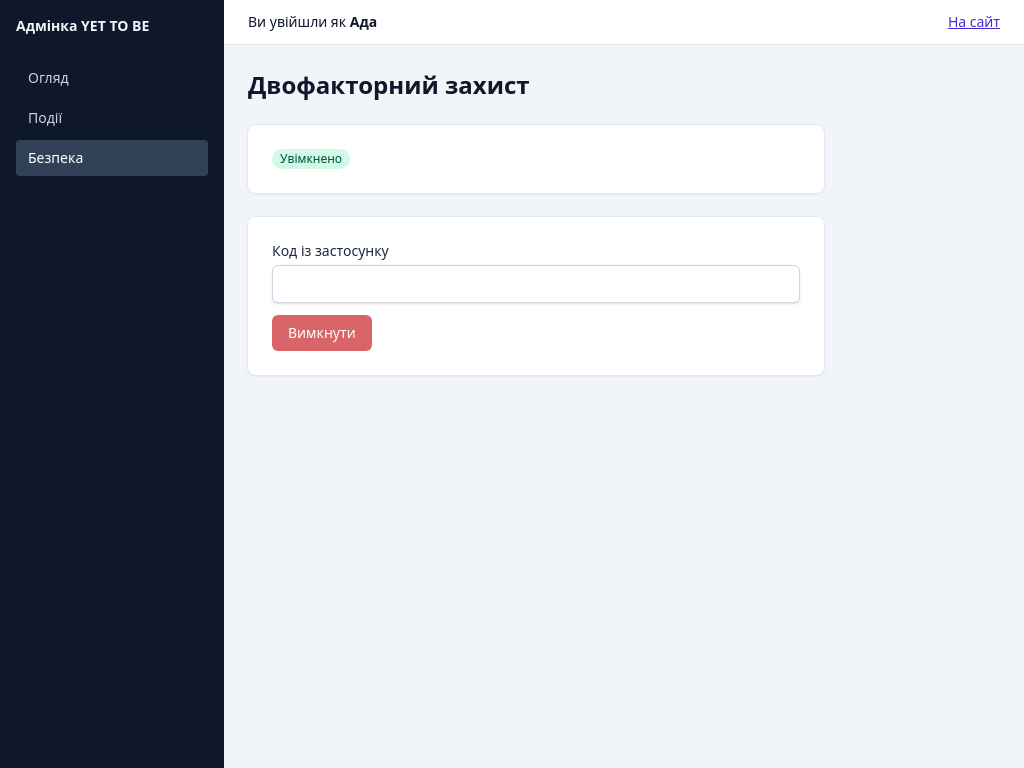
список користувачів і безпека › вимикає необов’язковий MFA кодом
Expected: the text "Увімкнено" is shown, [272,149,350,169]
Type "123456" into the field labelled "Код із застосунку" at {"x": 536, "y": 284}, box [272,265,800,303]
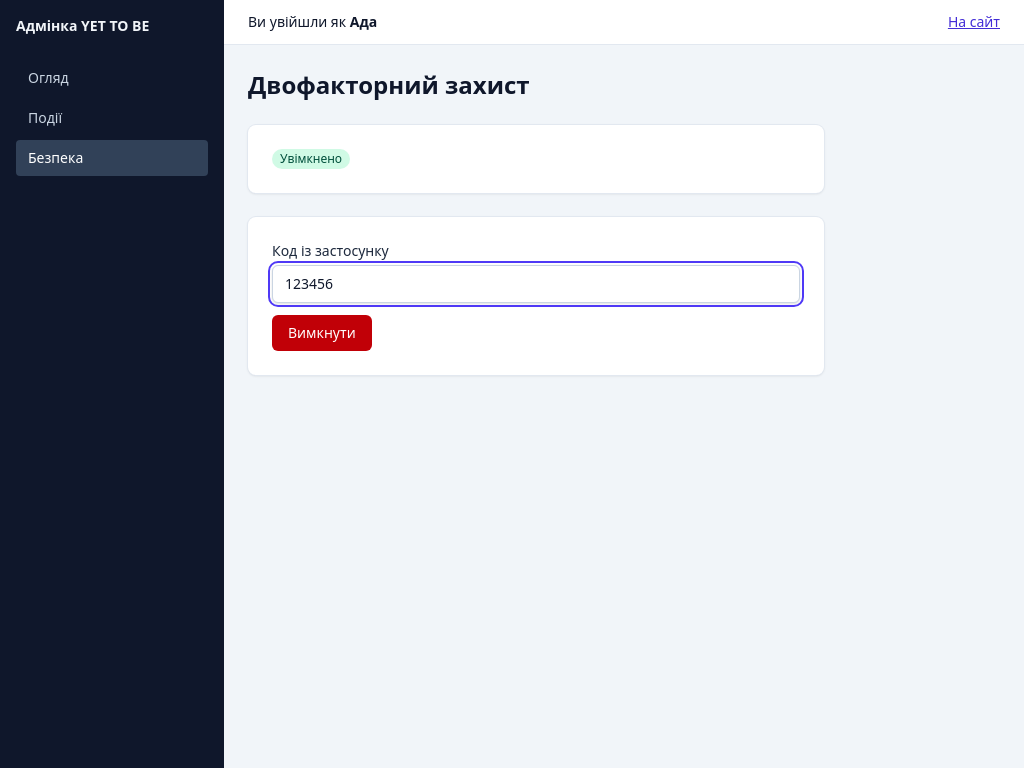
Click the button "Вимкнути" at {"x": 322, "y": 333}, box [272,315,372,351]
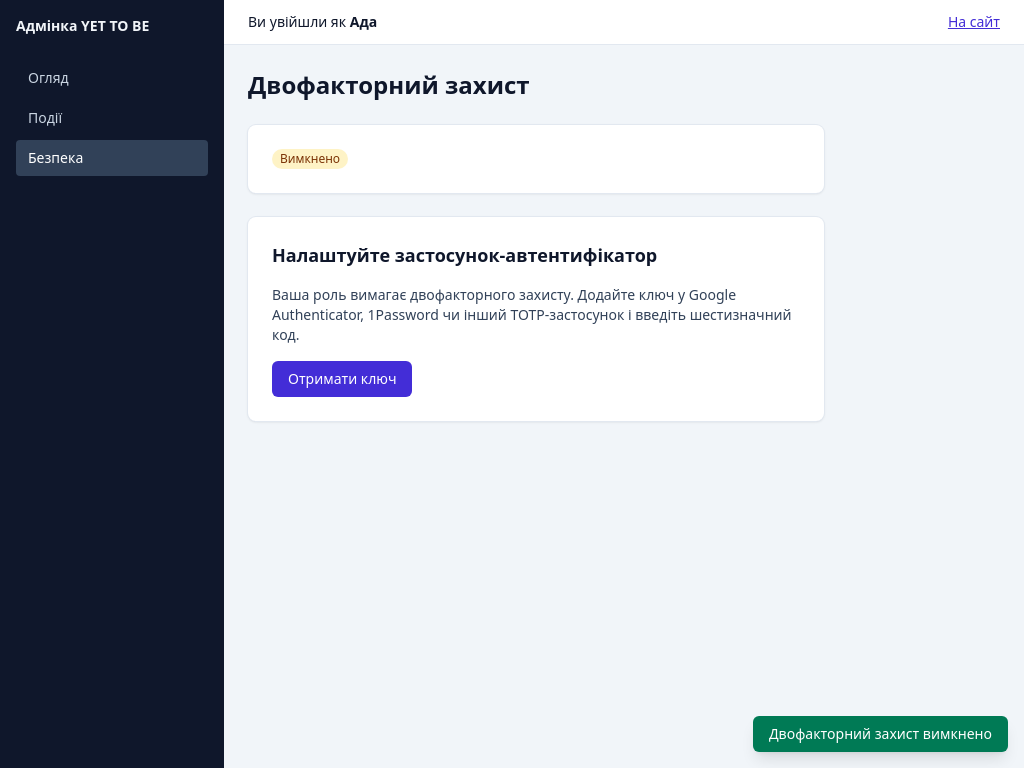
Expected: the text "Двофакторний захист вимкнено" is shown, [753,716,1008,752]
